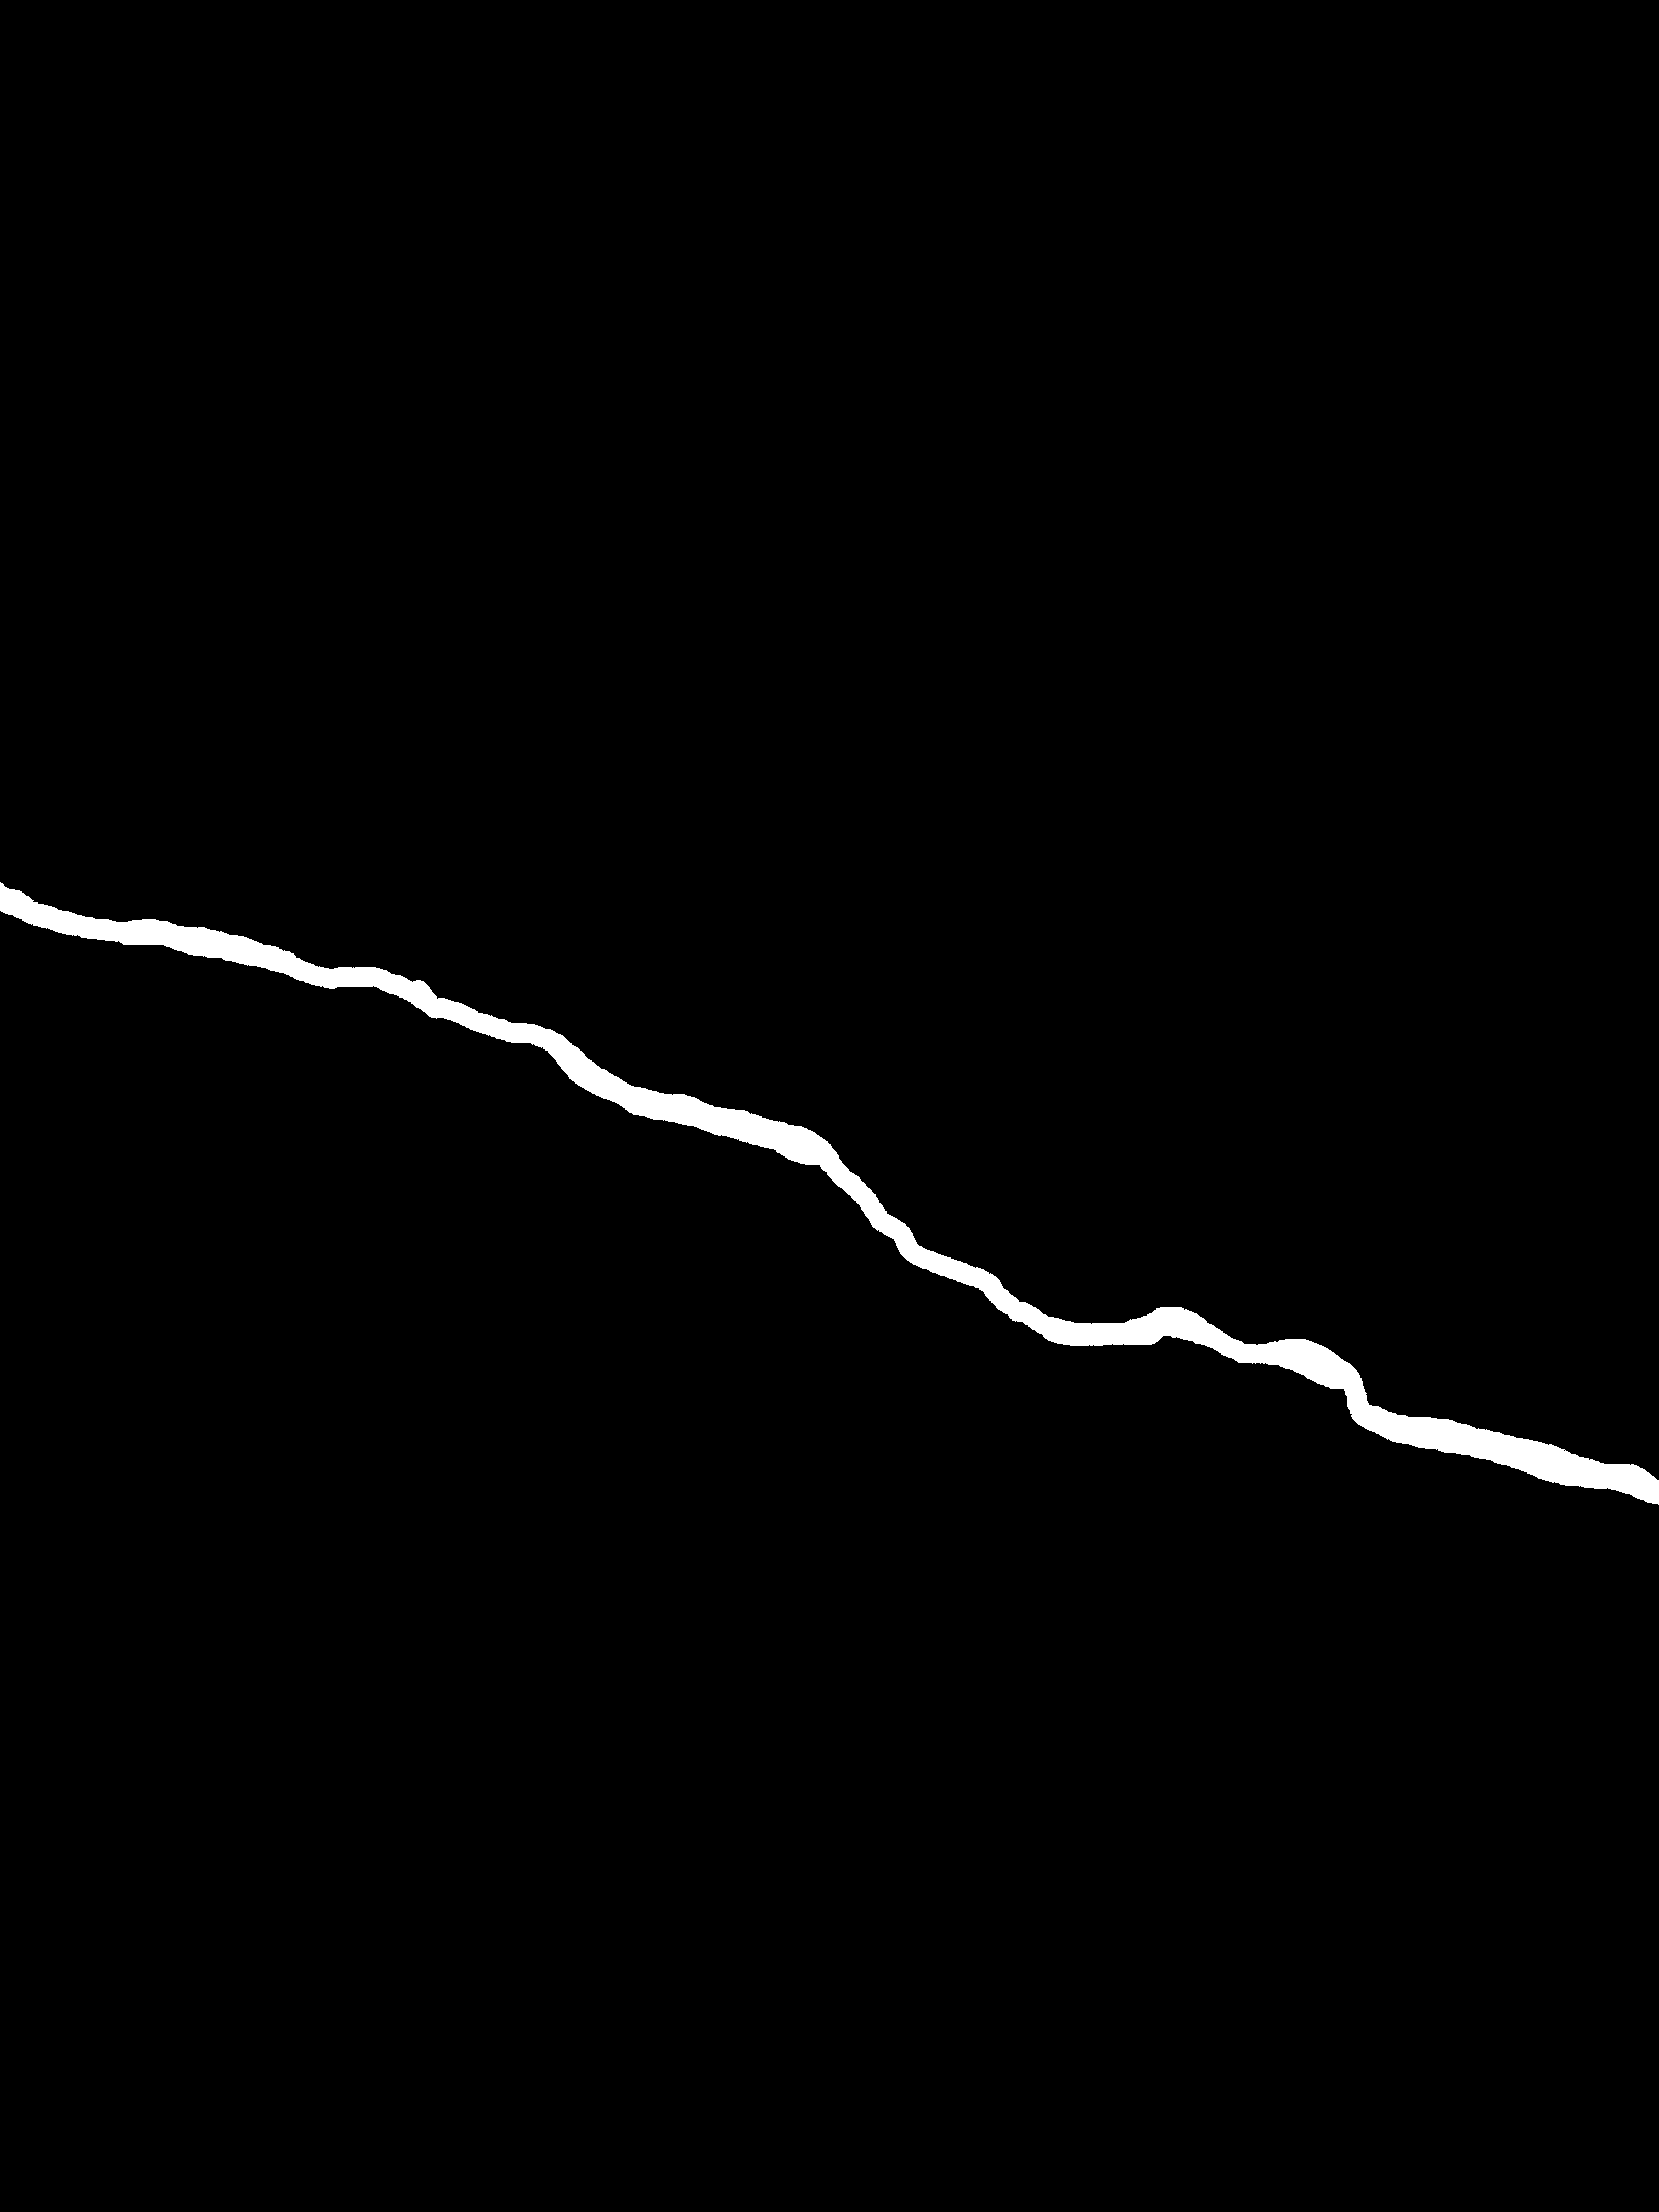Crack: (0, 862, 1659, 1531)
